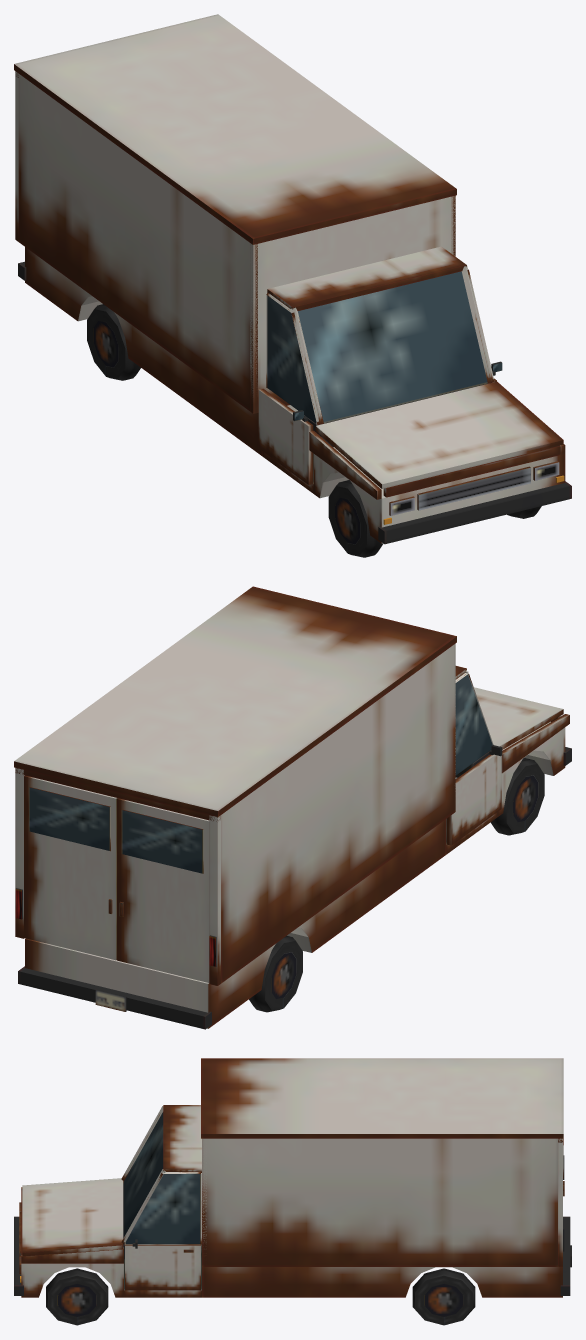
File: box_truck_rusted.obj
3 views of the same model, one above another, from view 1: azimuth 30°, elevation 25°; view 2: azimuth 150°, elevation 25°; view 3: azimuth 270°, elevation 25° (orthographic). The views are drawn at different scales.
Visible parts, largest first — view 1: box_truck_rusted, box_truck_rusted_hood, box_truck_rusted_door_right, box_truck_rusted_wheel_front_right, box_truck_rusted_wheel_rear_right; view 2: box_truck_rusted, box_truck_rusted_door_back_left, box_truck_rusted_door_back_right, box_truck_rusted_door_right, box_truck_rusted_hood, box_truck_rusted_wheel_front_right, box_truck_rusted_wheel_rear_right; view 3: box_truck_rusted, box_truck_rusted_door_left, box_truck_rusted_hood, box_truck_rusted_wheel_rear_left, box_truck_rusted_wheel_front_left.
Part boxes in pixels (bbox=[...]): box_truck_rusted: bbox=[14, 14, 571, 544]; box_truck_rusted_hood: bbox=[315, 381, 563, 488]; box_truck_rusted_door_right: bbox=[258, 293, 318, 484]; box_truck_rusted_wheel_front_right: bbox=[328, 480, 383, 557]; box_truck_rusted_wheel_rear_right: bbox=[87, 304, 140, 380]; box_truck_rusted: bbox=[14, 586, 571, 1029]; box_truck_rusted_door_back_left: bbox=[24, 775, 117, 960]; box_truck_rusted_door_back_right: bbox=[117, 798, 209, 982]; box_truck_rusted_door_right: bbox=[447, 672, 502, 845]; box_truck_rusted_hood: bbox=[474, 687, 563, 749]; box_truck_rusted_wheel_front_right: bbox=[490, 757, 544, 835]; box_truck_rusted_wheel_rear_right: bbox=[249, 936, 302, 1012]; box_truck_rusted: bbox=[14, 1058, 571, 1297]; box_truck_rusted_door_left: bbox=[123, 1172, 201, 1290]; box_truck_rusted_hood: bbox=[22, 1178, 123, 1256]; box_truck_rusted_wheel_rear_left: bbox=[412, 1268, 475, 1325]; box_truck_rusted_wheel_front_left: bbox=[46, 1268, 108, 1325].
Bounding box in the file's own units: 2.22 × 2.66 × 6.8.
Materials: 1 (1 with a texture image).
